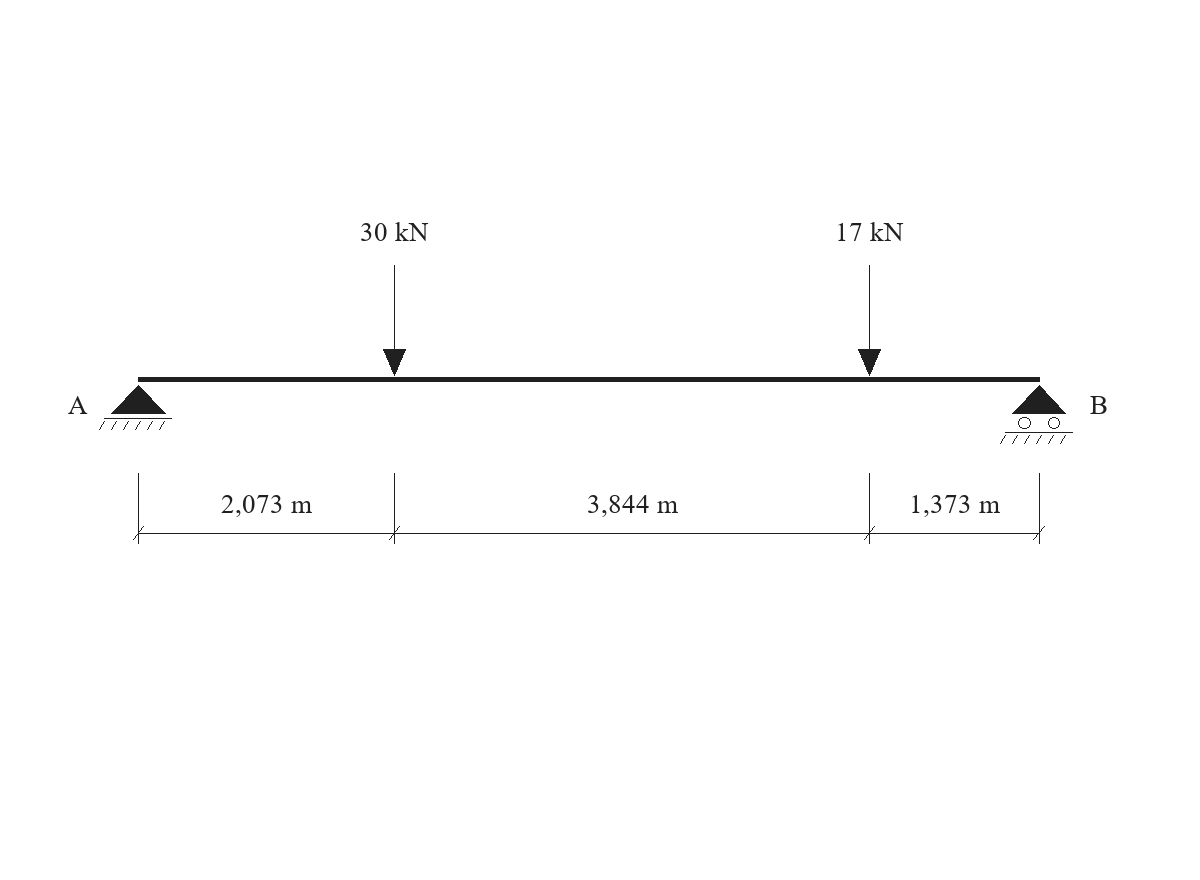pin_support: (99, 385, 172, 430)
point_load: (383, 265, 406, 376), (858, 265, 881, 376)
roller_support: (1000, 385, 1073, 444)
